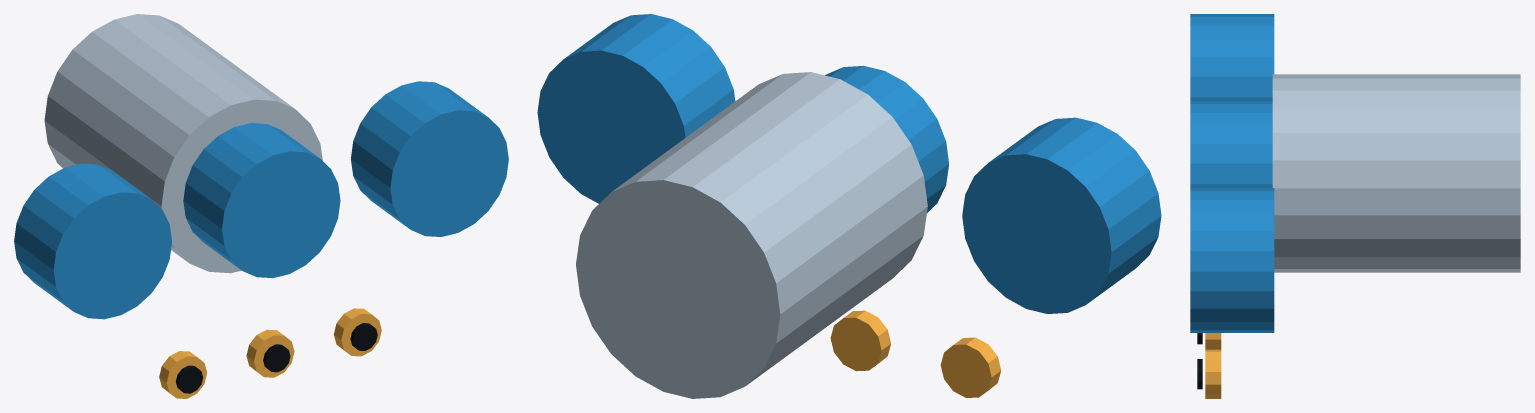
The model's file is 28_L90_Aurora1AttitudeAndNavigationSuite.fbx.
3 renders of one model, left to right at view 1: azimuth 30°, elevation 25°; view 2: azimuth 150°, elevation 25°; view 3: azimuth 270°, elevation 25°, orthographic. The views are drawn at different scales.
Parts seen in each view (by area): view 1: L90_Aurora1AttitudeAndNavigationSuite_Part_0001, L90_Aurora1AttitudeAndNavigationSuite_Part_0000, L90_Aurora1AttitudeAndNavigationSuite_Part_0006, L90_Aurora1AttitudeAndNavigationSuite_Part_0004, L90_Aurora1AttitudeAndNavigationSuite_Part_0002, L90_Aurora1AttitudeAndNavigationSuite_Part_0003, L90_Aurora1AttitudeAndNavigationSuite_Part_0005, L90_Aurora1AttitudeAndNavigationSuite_Part_0007; view 2: L90_Aurora1AttitudeAndNavigationSuite_Part_0000, L90_Aurora1AttitudeAndNavigationSuite_Part_0001, L90_Aurora1AttitudeAndNavigationSuite_Part_0002, L90_Aurora1AttitudeAndNavigationSuite_Part_0004; view 3: L90_Aurora1AttitudeAndNavigationSuite_Part_0000, L90_Aurora1AttitudeAndNavigationSuite_Part_0001, L90_Aurora1AttitudeAndNavigationSuite_Part_0006.
Boxes of the visible parts, x1=… form: L90_Aurora1AttitudeAndNavigationSuite_Part_0001: x1=14, y1=81, x2=508, y2=319; L90_Aurora1AttitudeAndNavigationSuite_Part_0000: x1=44, y1=14, x2=322, y2=273; L90_Aurora1AttitudeAndNavigationSuite_Part_0006: x1=333, y1=308, x2=381, y2=356; L90_Aurora1AttitudeAndNavigationSuite_Part_0004: x1=246, y1=329, x2=294, y2=377; L90_Aurora1AttitudeAndNavigationSuite_Part_0002: x1=159, y1=351, x2=206, y2=398; L90_Aurora1AttitudeAndNavigationSuite_Part_0003: x1=175, y1=365, x2=202, y2=393; L90_Aurora1AttitudeAndNavigationSuite_Part_0005: x1=263, y1=344, x2=290, y2=372; L90_Aurora1AttitudeAndNavigationSuite_Part_0007: x1=350, y1=323, x2=377, y2=350; L90_Aurora1AttitudeAndNavigationSuite_Part_0000: x1=576, y1=72, x2=927, y2=398; L90_Aurora1AttitudeAndNavigationSuite_Part_0001: x1=537, y1=14, x2=1161, y2=313; L90_Aurora1AttitudeAndNavigationSuite_Part_0002: x1=940, y1=337, x2=1001, y2=397; L90_Aurora1AttitudeAndNavigationSuite_Part_0004: x1=830, y1=310, x2=890, y2=371; L90_Aurora1AttitudeAndNavigationSuite_Part_0000: x1=1272, y1=74, x2=1520, y2=272; L90_Aurora1AttitudeAndNavigationSuite_Part_0001: x1=1190, y1=14, x2=1274, y2=332; L90_Aurora1AttitudeAndNavigationSuite_Part_0006: x1=1205, y1=349, x2=1221, y2=398.
Bounding box in the file's own units: 146 × 77.24 × 86.5.
